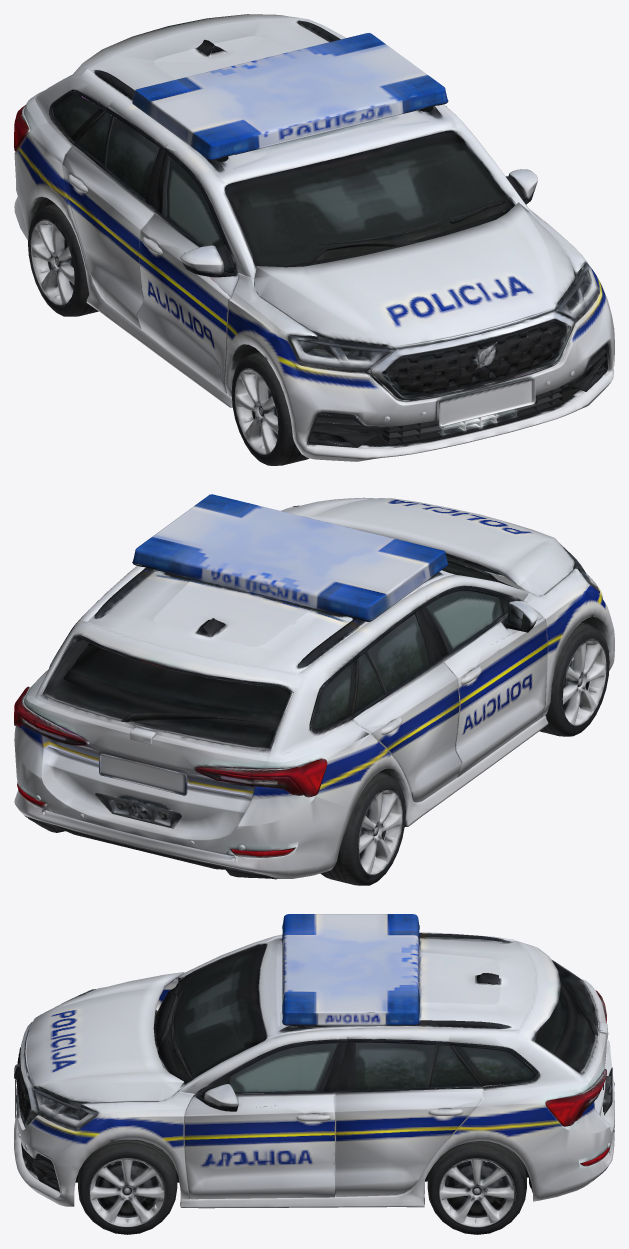
The model's file is policija.glb.
3 renders of one model, top to bottom at view 1: azimuth 30°, elevation 25°; view 2: azimuth 150°, elevation 25°; view 3: azimuth 270°, elevation 25°, orthographic. The views are drawn at different scales.
Parts seen in each view (by area): view 1: tripo_node_806ebb42-f26f-4e80-8788-bfcf765a69ec; view 2: tripo_node_806ebb42-f26f-4e80-8788-bfcf765a69ec; view 3: tripo_node_806ebb42-f26f-4e80-8788-bfcf765a69ec.
Part boxes in pixels (x1,y1,x2,y2): tripo_node_806ebb42-f26f-4e80-8788-bfcf765a69ec: [14, 14, 614, 465]; tripo_node_806ebb42-f26f-4e80-8788-bfcf765a69ec: [14, 494, 614, 885]; tripo_node_806ebb42-f26f-4e80-8788-bfcf765a69ec: [14, 914, 614, 1234].
Bounding box in the file's own units: 0.5806 × 0.3794 × 0.9995.
Materials: 1 (1 with a texture image).
